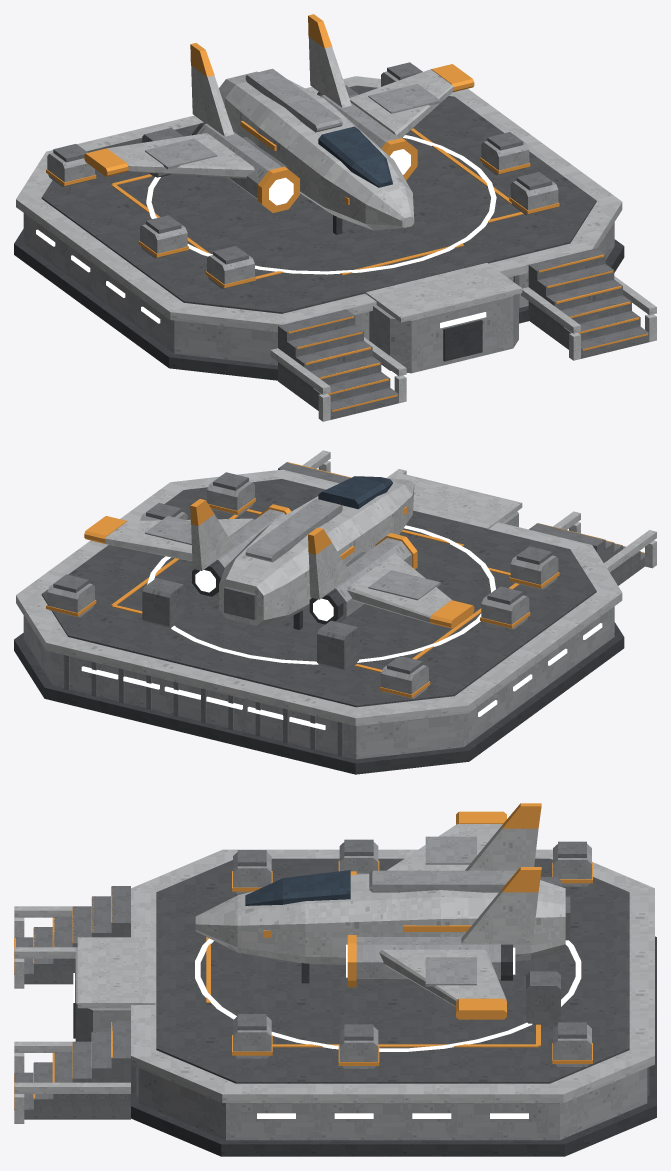
File: hub_lod1.glb
3 views of the same model, one above another, from view 1: azimuth 30°, elevation 25°; view 2: azimuth 150°, elevation 25°; view 3: azimuth 270°, elevation 25° (orthographic). The views are drawn at different scales.
Parts seen in each view (by area): view 1: hub_base_body.001, hub_shuttle_body.001, hub_base_trim.001, hub_shuttle_trim.001, hub_base_glow.001, hub_shuttle_glow.001; view 2: hub_base_body.001, hub_shuttle_body.001, hub_base_glow.001, hub_shuttle_trim.001, hub_base_trim.001, hub_shuttle_glow.001; view 3: hub_base_body.001, hub_shuttle_body.001, hub_shuttle_trim.001, hub_base_glow.001, hub_base_trim.001.
Boxes of the visible parts, bbox=[...] form: hub_base_body.001: bbox=[14, 62, 656, 421]; hub_shuttle_body.001: bbox=[107, 37, 452, 234]; hub_base_trim.001: bbox=[46, 128, 647, 411]; hub_shuttle_trim.001: bbox=[84, 14, 474, 212]; hub_base_glow.001: bbox=[36, 135, 496, 328]; hub_shuttle_glow.001: bbox=[269, 149, 410, 205]; hub_base_body.001: bbox=[14, 450, 656, 774]; hub_shuttle_body.001: bbox=[105, 476, 451, 629]; hub_base_glow.001: bbox=[81, 525, 602, 729]; hub_shuttle_trim.001: bbox=[84, 499, 474, 628]; hub_base_trim.001: bbox=[46, 462, 644, 697]; hub_shuttle_glow.001: bbox=[195, 570, 333, 621]; hub_base_body.001: bbox=[14, 839, 656, 1156]; hub_shuttle_body.001: bbox=[195, 824, 570, 1006]; hub_shuttle_trim.001: bbox=[263, 803, 541, 1019]; hub_base_glow.001: bbox=[73, 938, 581, 1118]; hub_base_trim.001: bbox=[14, 860, 592, 1109].
Size of the model in its own units: 6 by 2.24 by 6.62.
Materials: 3 (1 with a texture image).
